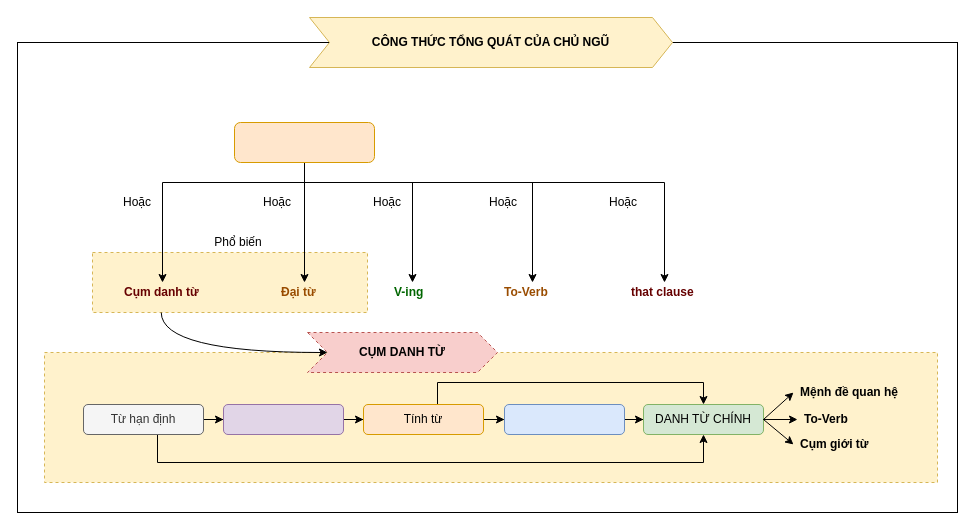
The diagram is 975 pixels wide and 530 high, and some of its shapes have lost their labels. Each missing label, with the box of its shape:
Chủ ngữ: (234, 122, 374, 162)
Danh từ: (504, 404, 624, 434)
Trạng từ: (222, 404, 344, 434)
